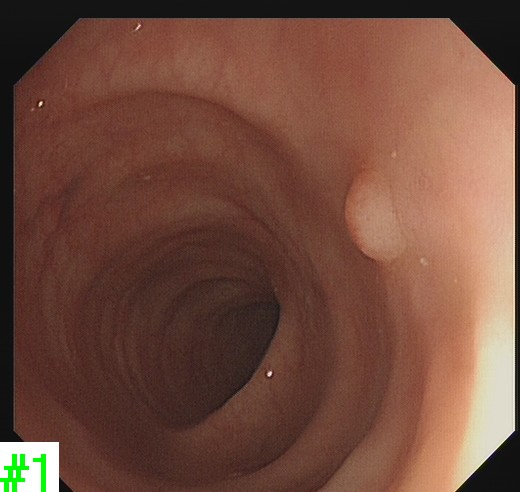adenoma: (341, 167, 409, 264)
